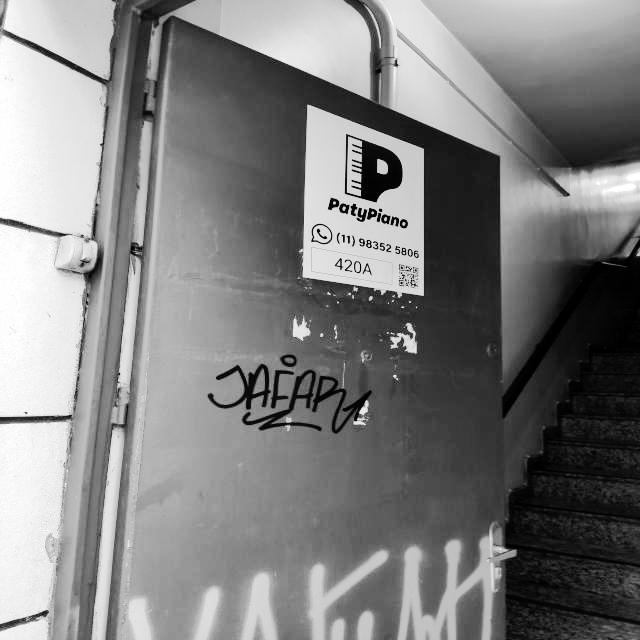qr_code: (399, 264, 418, 289)
